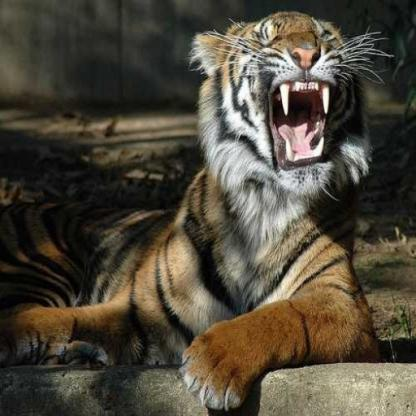Tiger: (0, 14, 409, 406)
